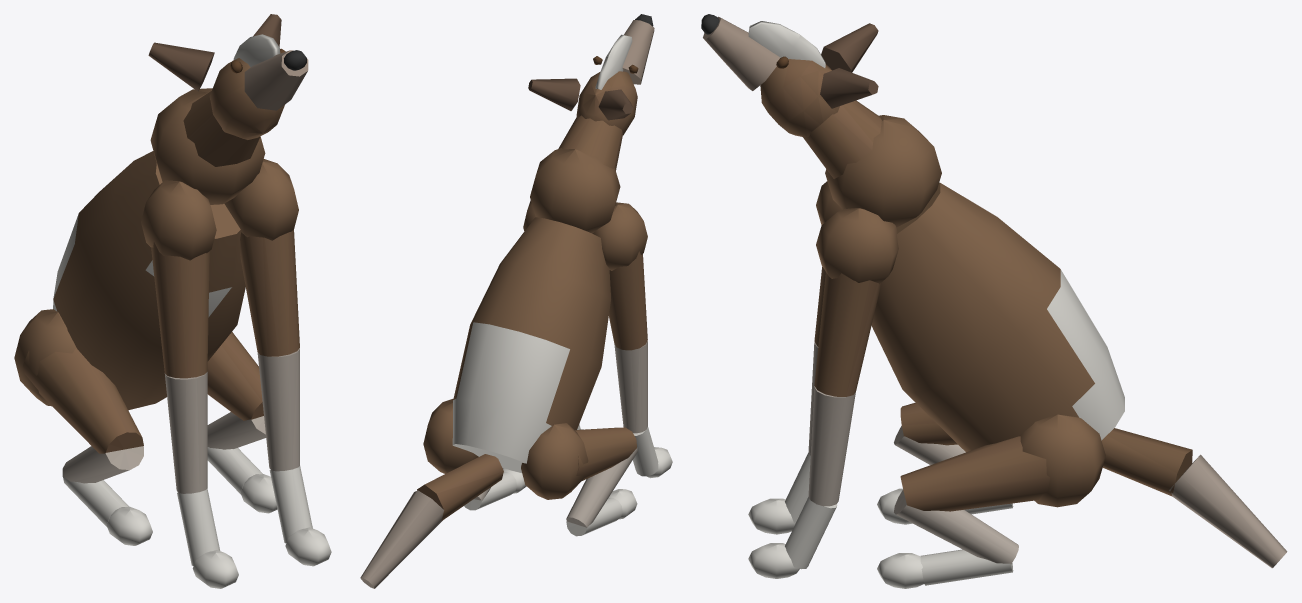
File: biscuit_sitting_a.glb
3 renders of one model, left to right at view 1: azimuth 30°, elevation 25°; view 2: azimuth 150°, elevation 25°; view 3: azimuth 270°, elevation 25°, orthographic. The views are drawn at different scales.
Visible parts, largest first — view 1: body; view 2: body; view 3: body.
Part boxes in pixels (left/top/right/bottom): body: left=14, top=14, right=331, bottom=588; body: left=360, top=14, right=672, bottom=588; body: left=701, top=14, right=1287, bottom=588.
Bounding box in the file's own units: 0.3748 × 1.02 × 1.
